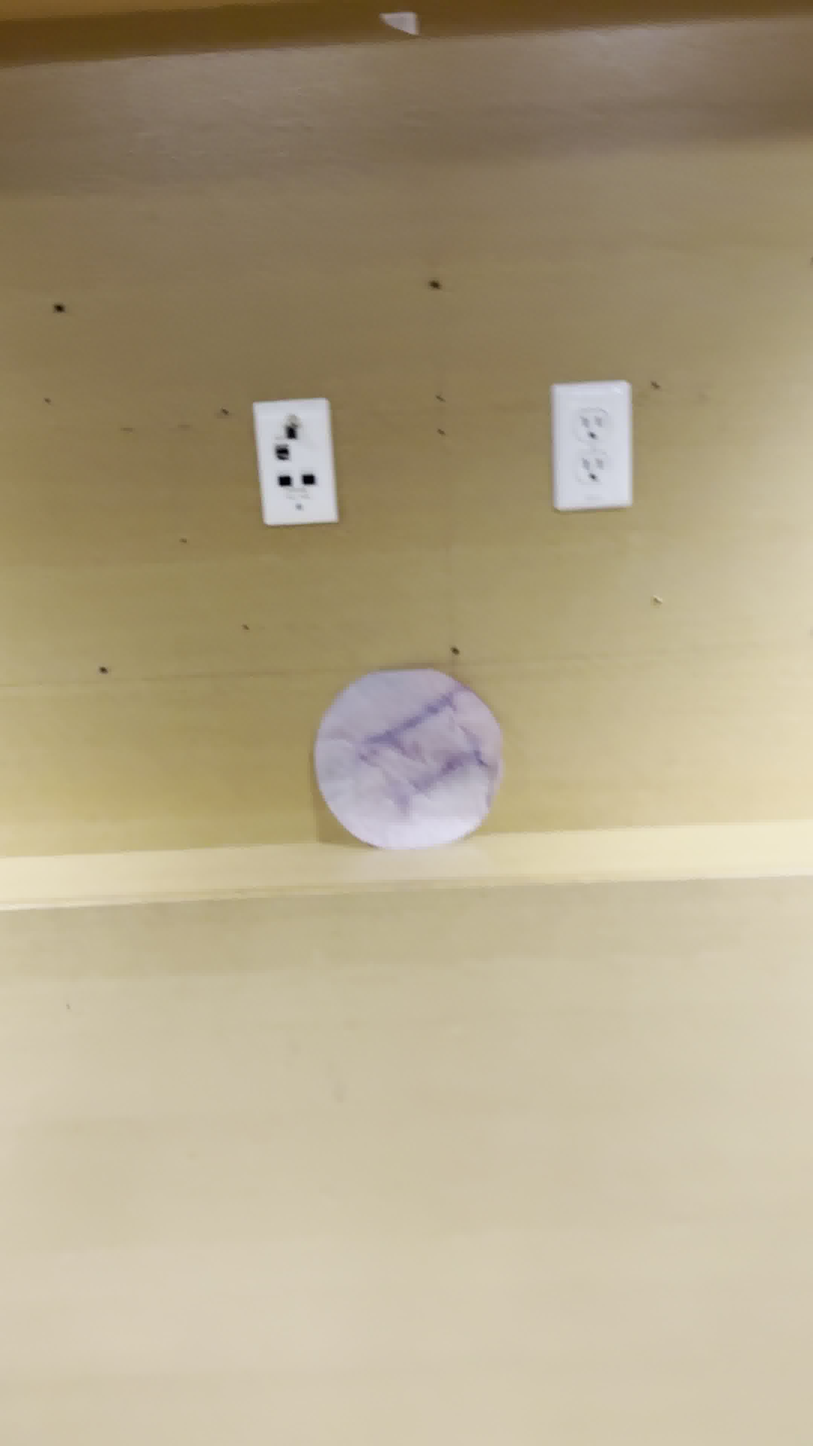Target: (309, 665, 501, 855)
